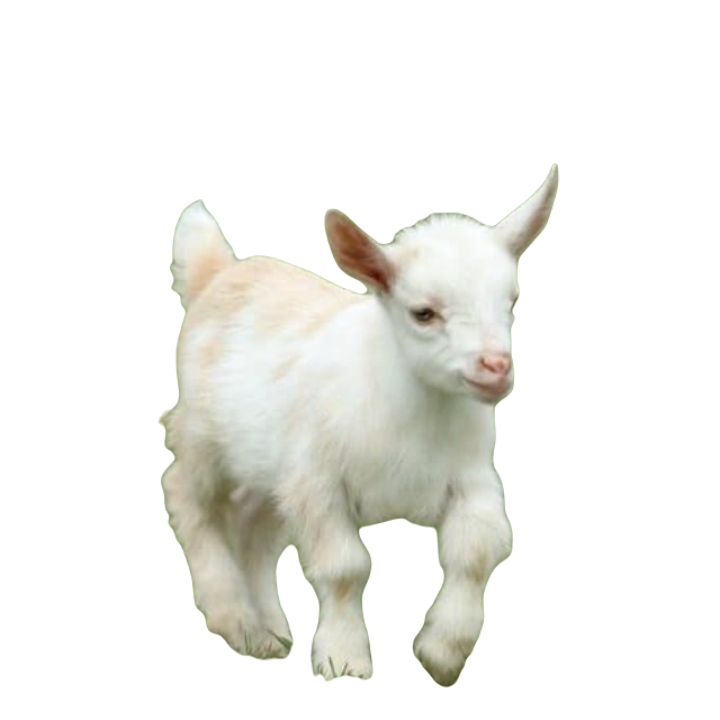Goat: (160, 164, 563, 685)
